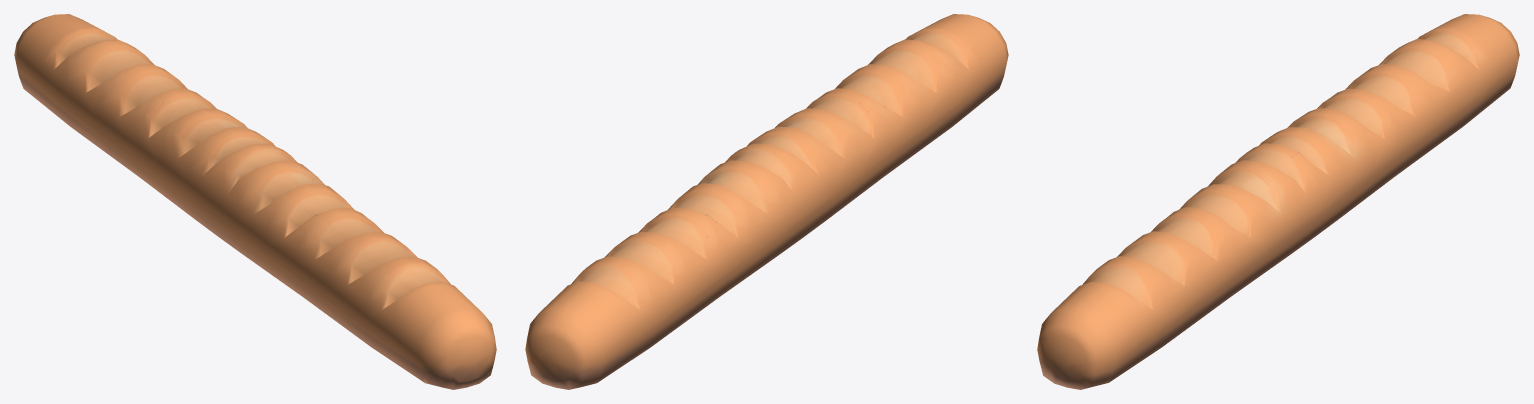
The model's file is Baguette.fbx.
3 renders of one model, left to right at view 1: azimuth 30°, elevation 25°; view 2: azimuth 150°, elevation 25°; view 3: azimuth 330°, elevation 25°, orthographic.
Visible parts, largest first — view 1: Cylinder; view 2: Cylinder; view 3: Cylinder.
Boxes of the visible parts, x1=… form: Cylinder: x1=14, y1=14, x2=496, y2=389; Cylinder: x1=525, y1=14, x2=1008, y2=389; Cylinder: x1=1037, y1=14, x2=1519, y2=389.
Bounding box in the file's own units: 121 × 114 × 994.
